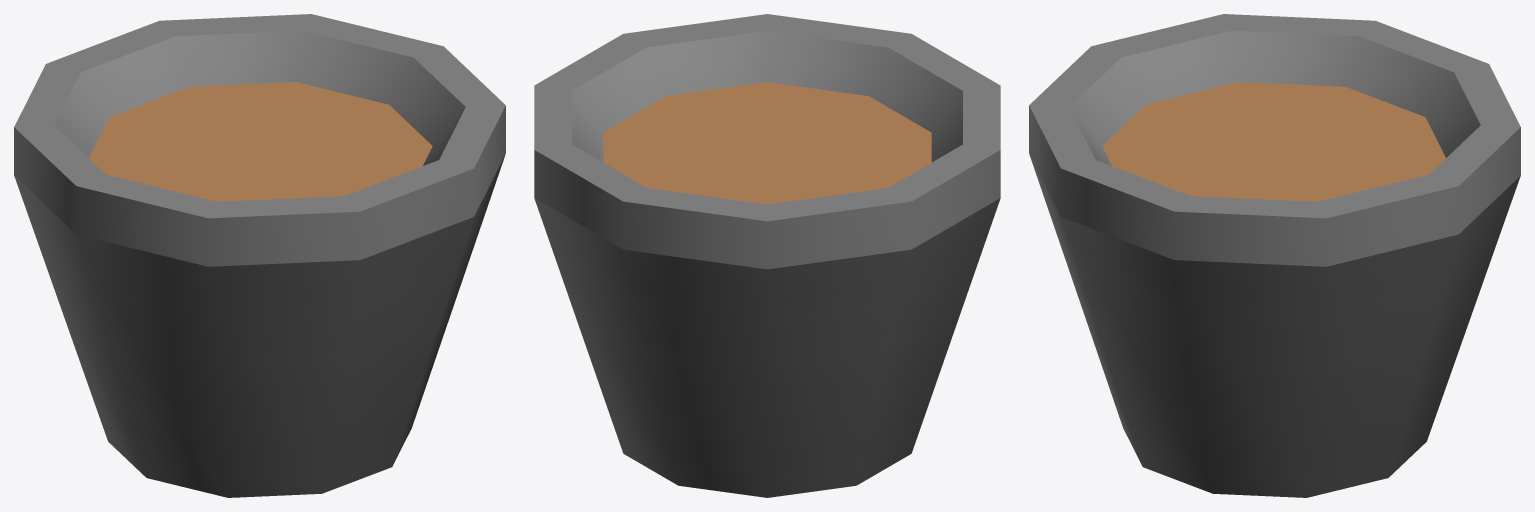
The model's file is PlantPot_5_A.fbx.
3 views of the same model, side by side, from view 1: azimuth 30°, elevation 25°; view 2: azimuth 150°, elevation 25°; view 3: azimuth 270°, elevation 25° (orthographic).
Parts seen in each view (by area): view 1: PlantPot_5_A; view 2: PlantPot_5_A; view 3: PlantPot_5_A.
Part boxes in pixels (x1,y1,x2,y2): PlantPot_5_A: [14, 14, 505, 497]; PlantPot_5_A: [534, 14, 1000, 497]; PlantPot_5_A: [1029, 14, 1520, 497].
Bounding box in the file's own units: 18.93 × 13.76 × 19.24.
